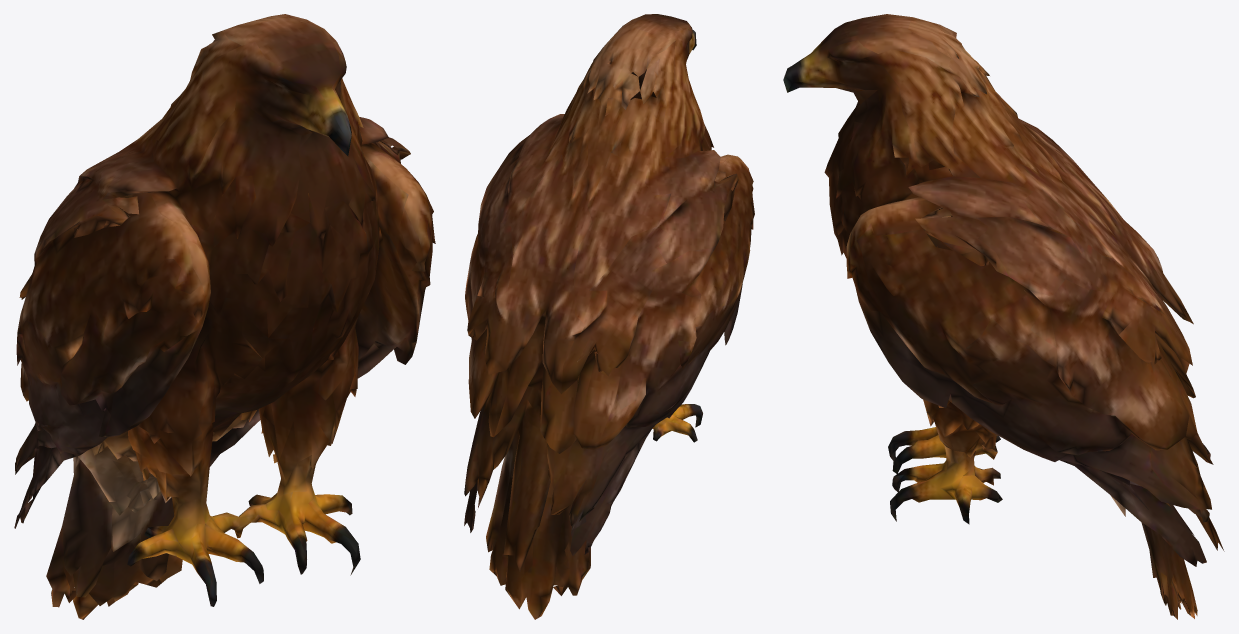
File: eagle.phone.glb
3 views of the same model, side by side, from view 1: azimuth 30°, elevation 25°; view 2: azimuth 150°, elevation 25°; view 3: azimuth 270°, elevation 25° (orthographic). The views are drawn at different scales.
Parts seen in each view (by area): view 1: eagle.raw; view 2: eagle.raw; view 3: eagle.raw.
Part boxes in pixels (box(x1,y1,x2,y2)): eagle.raw: box(14, 14, 435, 619); eagle.raw: box(464, 14, 754, 619); eagle.raw: box(783, 14, 1224, 619).
Bounding box in the file's own units: 0.4272 × 0.85 × 0.5666.
Materials: 1 (1 with a texture image).
